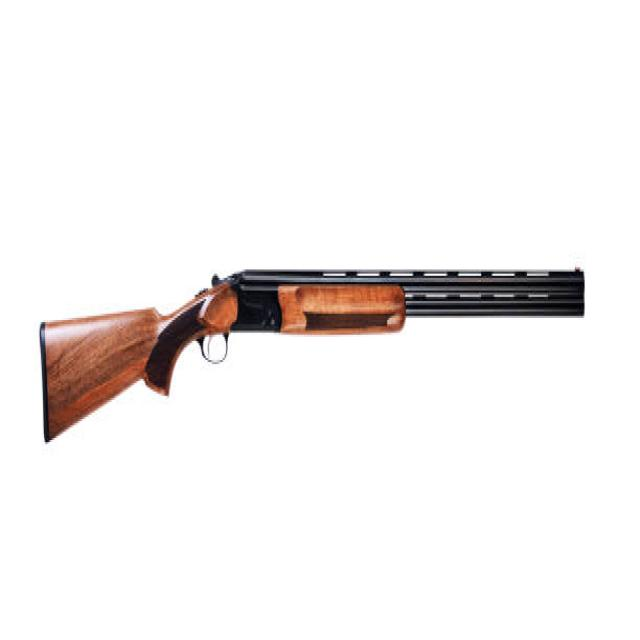rifle: (32, 248, 594, 449)
